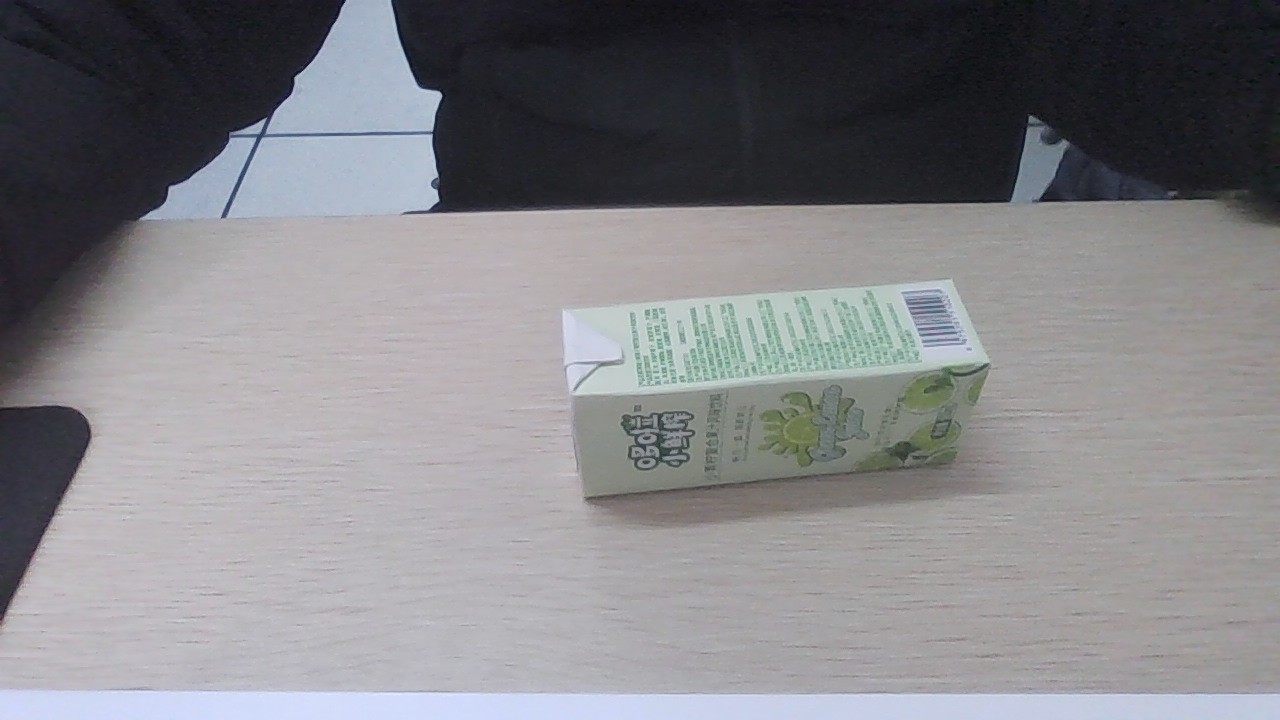CY-drink: (562, 282, 962, 493)
